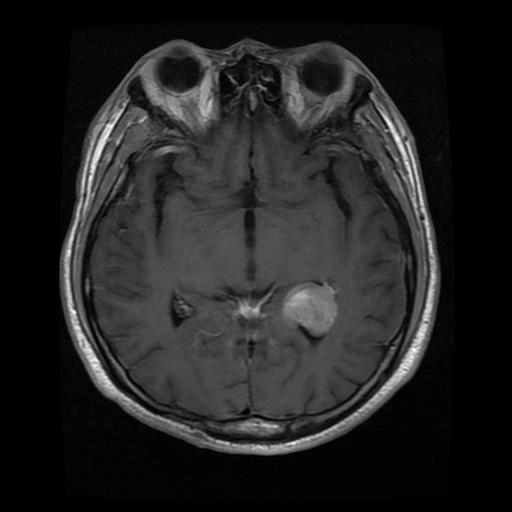Tumour-Meningioma: (272, 263, 357, 378)
